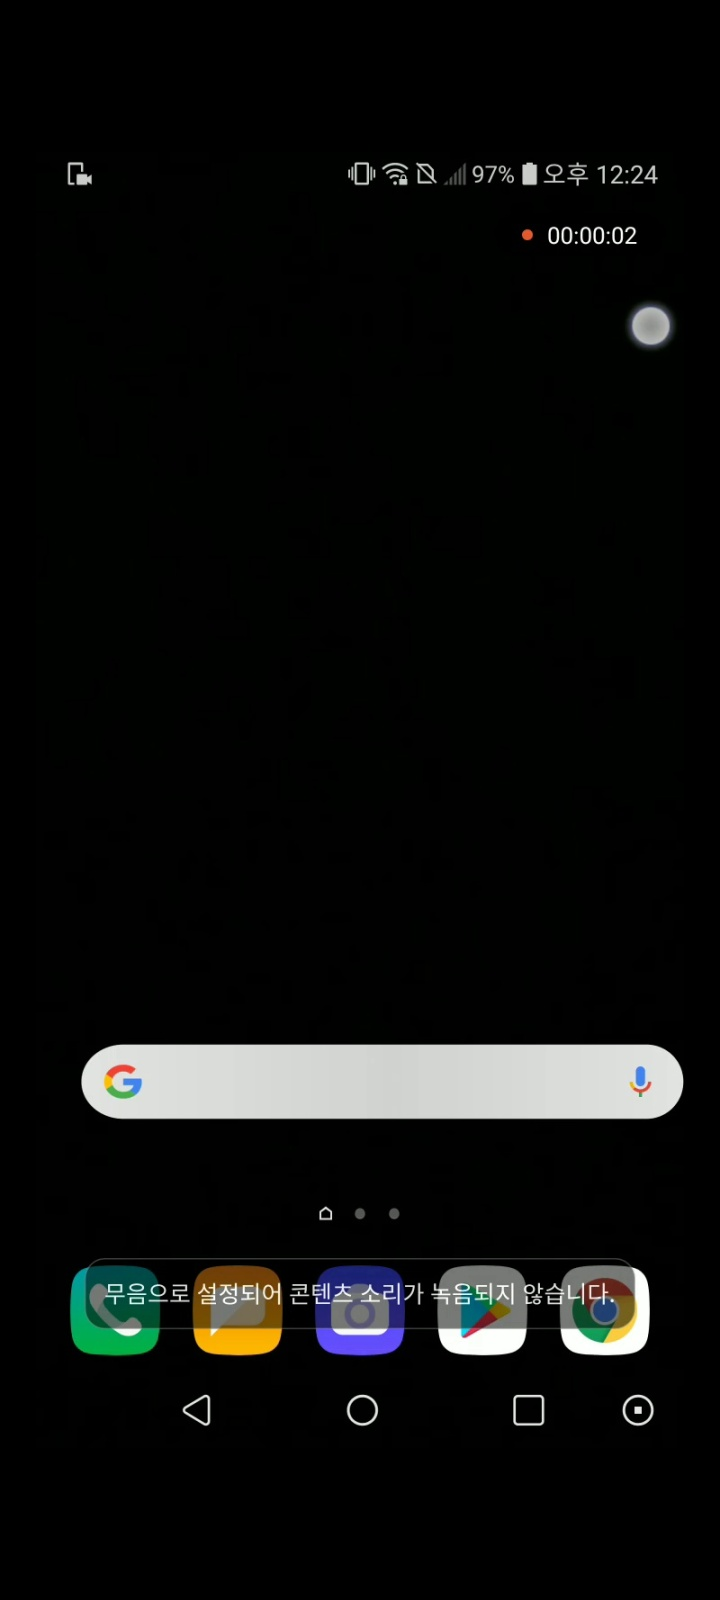Cursor: (628, 303, 673, 348)
